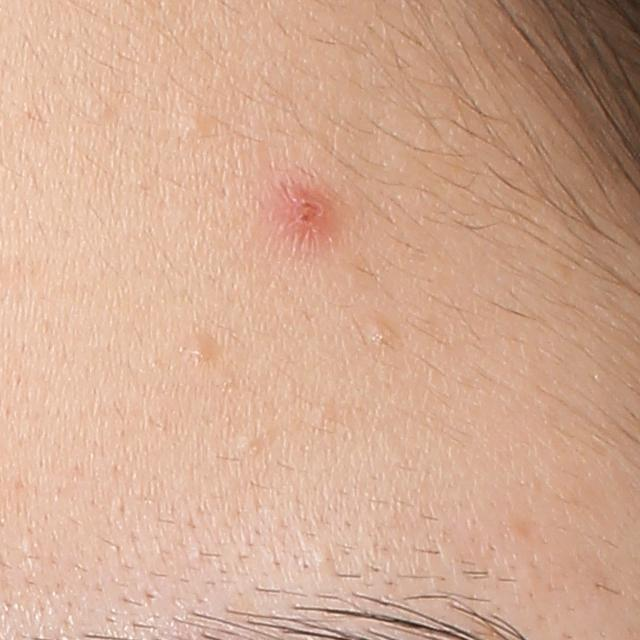comedo: (180, 334, 219, 366), (233, 430, 266, 458), (364, 318, 394, 348), (180, 114, 208, 143)
papule: (270, 183, 332, 246)
